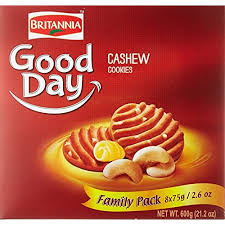gooday-large: (1, 5, 222, 219)
